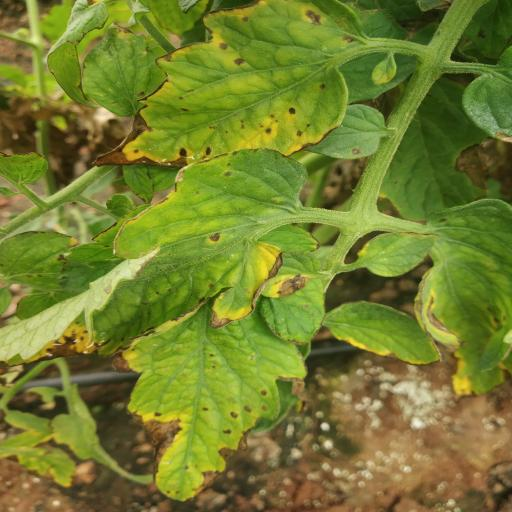Early Blight: (82, 0, 364, 171), (2, 223, 286, 366), (120, 304, 312, 502), (104, 146, 308, 261)
